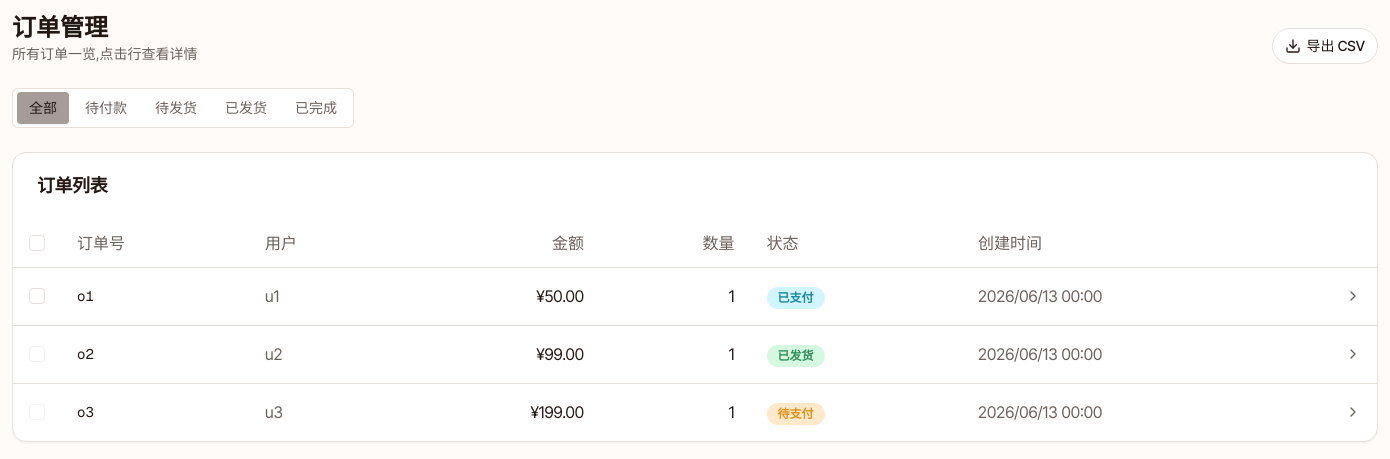
Test case: OrderListPage › OD ad-05: 切到"待付款"tab 只显示 PENDING 订单
The width and height of the screenshot is (1390, 459).
Expected: the text "o1" is shown, top-left (61, 267), bottom-right (249, 325)
Click the tab "待付款" at (106, 108), box top-left (73, 92), bottom-right (139, 124)
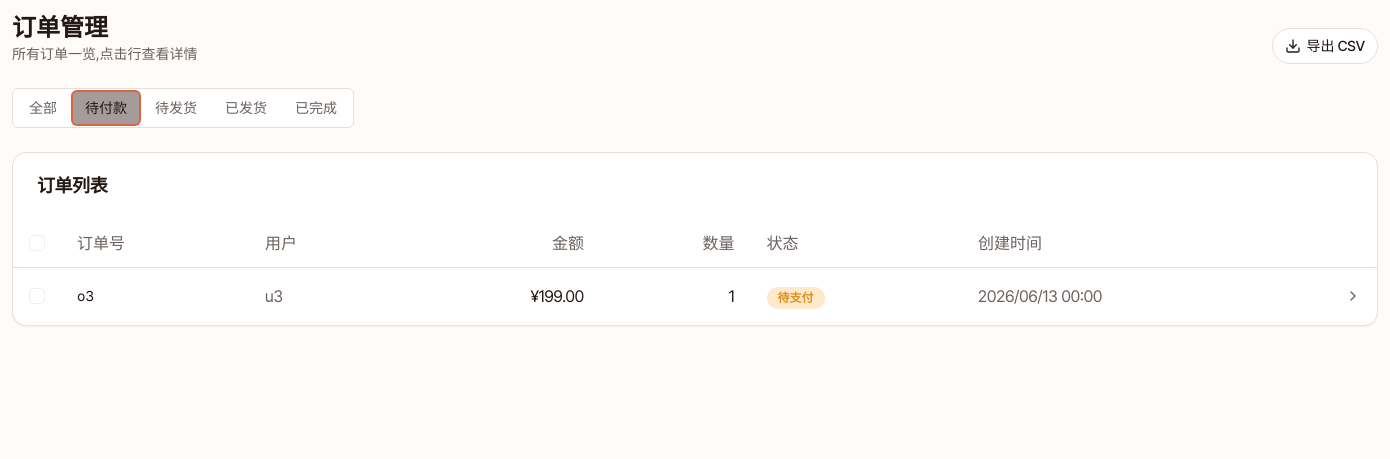
Expected: the text "o3" is shown, top-left (61, 267), bottom-right (249, 324)
Expected: the text "o1" is gone
Expected: the text "o2" is gone
